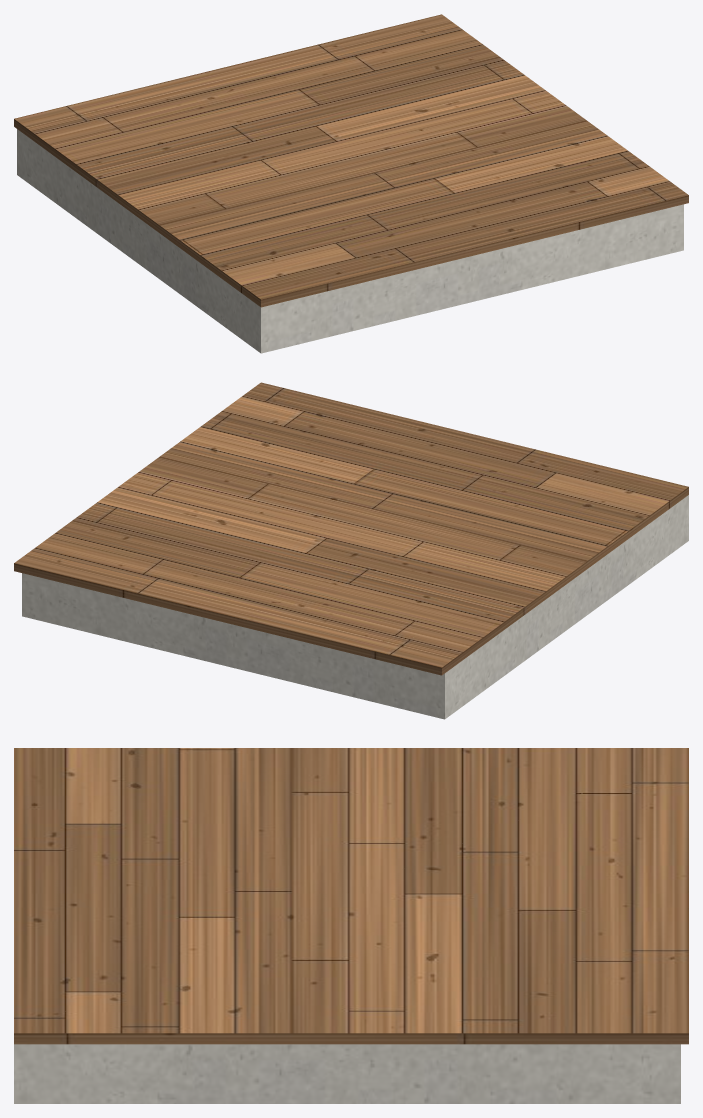
File: floor_wood_u_e30_0_0_30.glb
3 renders of one model, top to bottom at view 1: azimuth 30°, elevation 25°; view 2: azimuth 150°, elevation 25°; view 3: azimuth 270°, elevation 25°, orthographic. The views are drawn at different scales.
Parts seen in each view (by area): view 1: floor_wood_u_e30_0_0_30_floor, floor_wood_u_e30_0_0_30_plaster; view 2: floor_wood_u_e30_0_0_30_floor, floor_wood_u_e30_0_0_30_plaster; view 3: floor_wood_u_e30_0_0_30_floor, floor_wood_u_e30_0_0_30_plaster.
Part boxes in pixels (x1,y1,x2,y2): floor_wood_u_e30_0_0_30_floor: (14,14,688,307); floor_wood_u_e30_0_0_30_plaster: (17,129,683,353); floor_wood_u_e30_0_0_30_floor: (14,382,688,675); floor_wood_u_e30_0_0_30_plaster: (22,495,688,719); floor_wood_u_e30_0_0_30_floor: (14,748,688,1044); floor_wood_u_e30_0_0_30_plaster: (14,1044,680,1103).
Size of the model in its own units: 1.7 by 0.205 by 1.7.
Materials: 2 (2 with a texture image).
